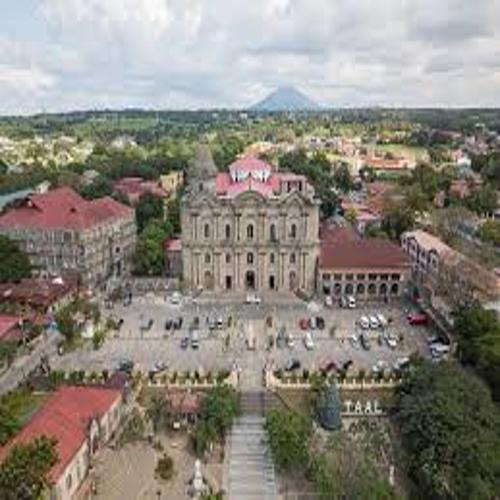Taal Basilica Church: (162, 120, 323, 305)
